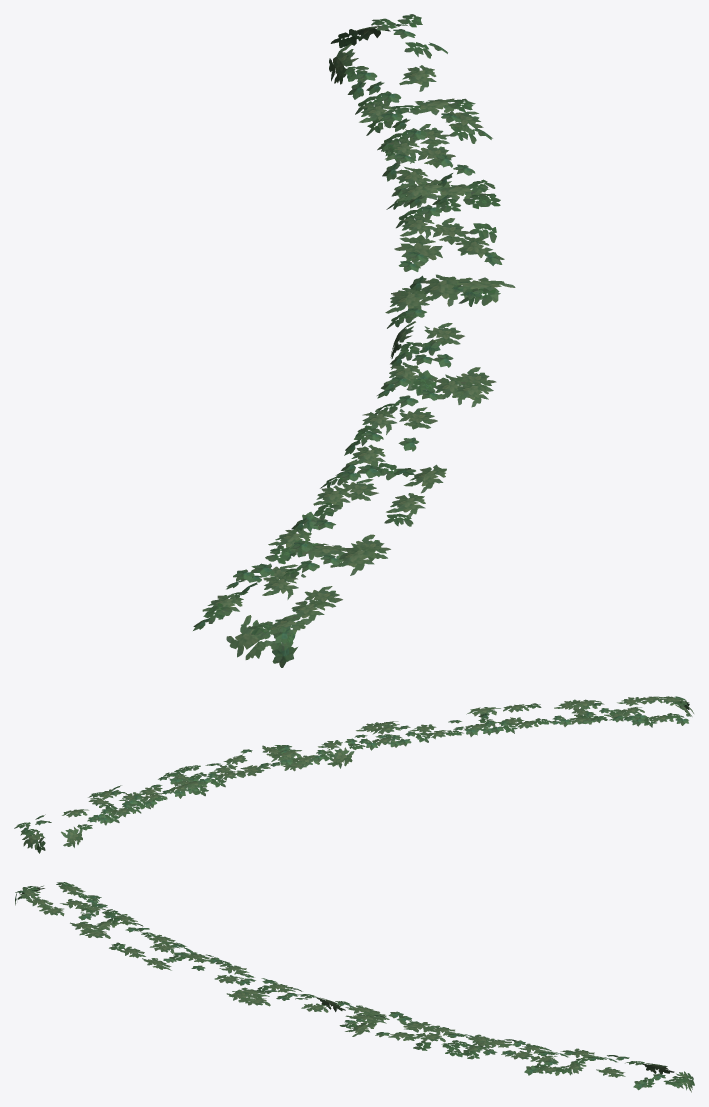
Rendered from pref_sm_beach_bk_pointmol_grassplant07a_lv1.fbx.
3 views of the same model, one above another, from view 1: azimuth 30°, elevation 25°; view 2: azimuth 150°, elevation 25°; view 3: azimuth 270°, elevation 25° (orthographic). The views are drawn at different scales.
Parts seen in each view (by area): view 1: pref_sm_beach_bk_pointmol_grassplant07a_lv1; view 2: pref_sm_beach_bk_pointmol_grassplant07a_lv1; view 3: pref_sm_beach_bk_pointmol_grassplant07a_lv1.
Part boxes in pixels (bbox=[...]): pref_sm_beach_bk_pointmol_grassplant07a_lv1: bbox=[193, 14, 515, 667]; pref_sm_beach_bk_pointmol_grassplant07a_lv1: bbox=[14, 696, 693, 853]; pref_sm_beach_bk_pointmol_grassplant07a_lv1: bbox=[15, 882, 694, 1092].
Bounding box in the file's own units: 16.23 × 0.7134 × 22.09.
